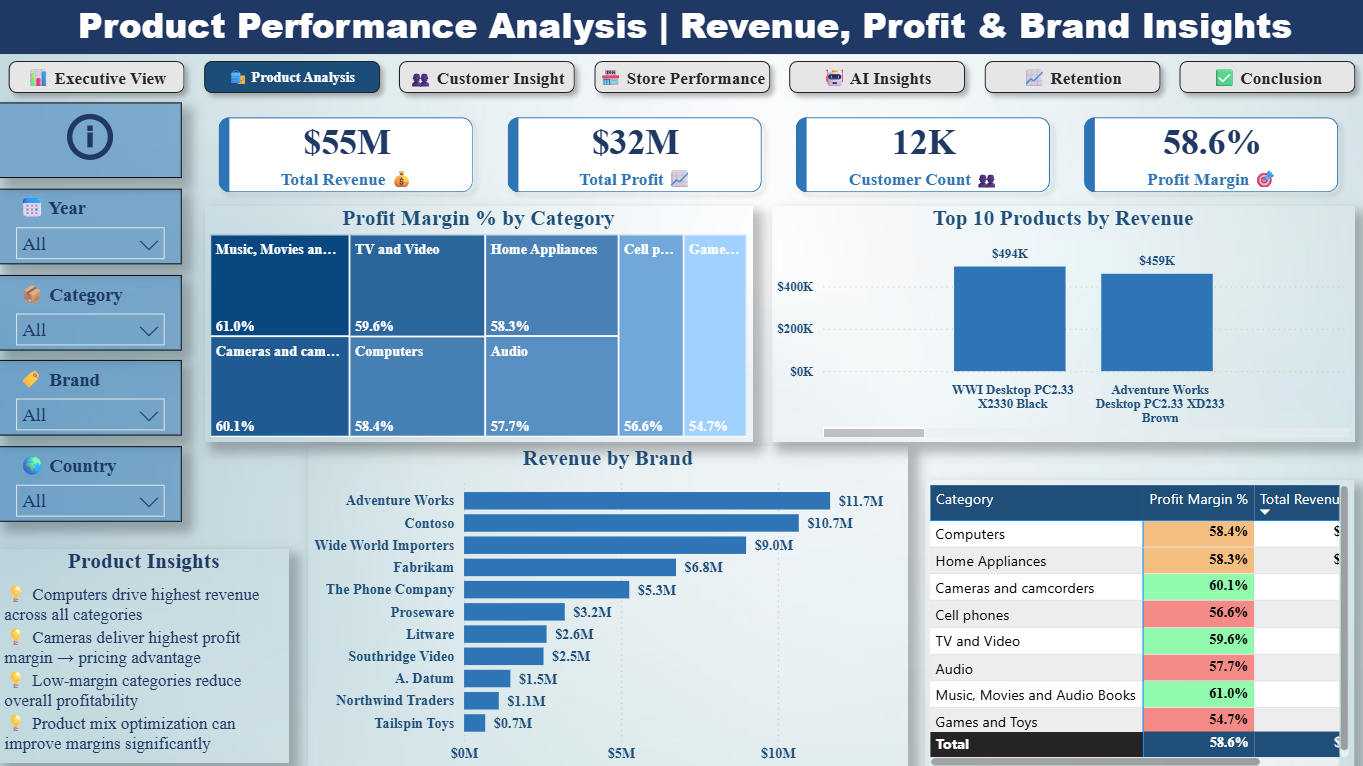

The dashboard page shown, as its layout file describes it:
{"tool":"powerbi","page":{"name":"🛍️ Product Analysis","canvas":[1280,720],"ordinal":2},"visuals":[{"type":"clusteredColumnChart","title":"Top 10 Products by Revenue","fields":{"Y":["Measure.Total Revenue"],"Category":["Products.Product Name"]},"box":[720,192,544,220],"z":0},{"type":"pivotTable","fields":{"Rows":["Products.Category"],"Values":["Measure.Profit Margin","Measure.Total Revenue"]},"box":[864,448,400,272],"z":1000},{"type":"cardVisual","fields":{"Data":["Measure.Total Revenue","Measure.Total Profit","Measure.Customer Count","Measure.Profit Margin"]},"box":[176,80,1104,128],"z":2000},{"type":"slicer","fields":{"Values":["Date Table.Year"]},"box":[0,176,170,70],"z":3000},{"type":"slicer","fields":{"Values":["Products.Category"]},"box":[0,256,170,70],"z":4000},{"type":"slicer","fields":{"Values":["Products.Brand"]},"box":[0,336,170,70],"z":5000},{"type":"textbox","title":"Product Performance Analysis | Revenue, Profit & Brand Insights","box":[0,0,1280,50],"z":6000},{"type":"pageNavigator","box":[0,48,1280,48],"z":7000},{"type":"clusteredBarChart","title":"Revenue by Brand","fields":{"Category":["Products.Brand"],"Y":["Measure.Total Revenue"]},"box":[288,416,560,304],"z":8000},{"type":"treemap","fields":{"Group":["Products.Category"],"Values":["Measure.Profit Margin"]},"box":[192,192,510,220],"z":9000},{"type":"slicer","fields":{"Values":["Customers.Continent"]},"box":[0,416,170,70],"z":10000},{"type":"actionButton","box":[0,96,170,70],"z":11000},{"type":"textbox","title":"Product Insights ","box":[0,512,270,200],"z":12000}]}

Visuals, with their boxes in screenshot pixels (x1, y1, x2, y2), scaled from the page's 1280x720 canvas onto the 1363x766 screenshot:
"Top 10 Products by Revenue" clusteredColumnChart: 767 204 1346 438
pivotTable - Products.Category x Measure.Profit Margin: 920 477 1346 765
cardVisual - Measure.Total Revenue x Measure.Total Profit: 187 85 1362 221
slicer - Date Table.Year: 0 187 181 262
slicer - Products.Category: 0 272 181 347
slicer - Products.Brand: 0 357 181 432
"Product Performance Analysis | Revenue, Profit & Brand Insights" textbox: 0 0 1362 53
pageNavigator: 0 51 1362 102
"Revenue by Brand" clusteredBarChart: 307 443 903 765
treemap - Products.Category x Measure.Profit Margin: 204 204 748 438
slicer - Customers.Continent: 0 443 181 517
actionButton: 0 102 181 177
"Product Insights " textbox: 0 545 288 757
